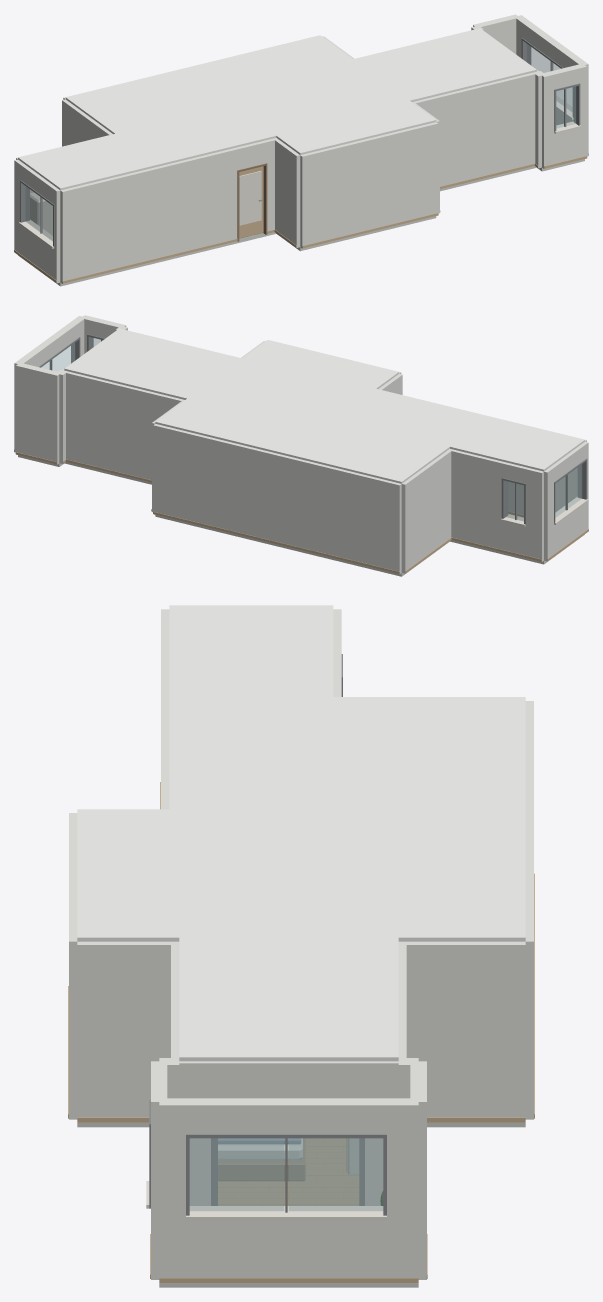
The model's file is two-06.glb.
3 renders of one model, top to bottom at view 1: azimuth 30°, elevation 25°; view 2: azimuth 150°, elevation 25°; view 3: azimuth 270°, elevation 25°, orthographic. The views are drawn at different scales.
Visible parts, largest first — view 1: architecture_wall, ceiling_ceiling, frames_glass, trim_oak, frames_metal, slab_edge, door_ivory, frames_ivory, furniture_ivory, frames_walnut, door_oak; view 2: architecture_wall, ceiling_ceiling, frames_glass, trim_oak, frames_metal, slab_edge, frames_ivory; view 3: ceiling_ceiling, architecture_wall, frames_glass, door_glass, floor_woodfloor, frames_ivory, trim_oak, frames_metal, slab_edge, furniture_walnut, furniture_white.
Part boxes in pixels (bbox=[...]): architecture_wall: bbox=[14, 14, 588, 283]; ceiling_ceiling: bbox=[18, 28, 536, 190]; frames_glass: bbox=[25, 44, 575, 241]; trim_oak: bbox=[14, 153, 588, 283]; frames_metal: bbox=[20, 38, 580, 248]; slab_edge: bbox=[18, 159, 584, 286]; door_ivory: bbox=[239, 171, 261, 225]; frames_ivory: bbox=[18, 96, 581, 248]; furniture_ivory: bbox=[30, 192, 52, 234]; frames_walnut: bbox=[237, 163, 267, 241]; door_oak: bbox=[239, 166, 263, 238]; architecture_wall: bbox=[14, 315, 588, 574]; ceiling_ceiling: bbox=[64, 328, 584, 483]; frames_glass: bbox=[41, 337, 581, 521]; trim_oak: bbox=[14, 449, 588, 573]; frames_metal: bbox=[39, 334, 587, 525]; slab_edge: bbox=[18, 455, 584, 576]; frames_ivory: bbox=[501, 497, 588, 526]; ceiling_ceiling: bbox=[77, 605, 525, 1061]; architecture_wall: bbox=[69, 609, 533, 1283]; frames_glass: bbox=[190, 1138, 382, 1210]; door_glass: bbox=[218, 1138, 358, 1205]; floor_woodfloor: bbox=[218, 1138, 358, 1205]; frames_ivory: bbox=[146, 1181, 386, 1220]; trim_oak: bbox=[68, 782, 534, 1282]; frames_metal: bbox=[149, 654, 386, 1215]; slab_edge: bbox=[77, 1123, 525, 1287]; furniture_walnut: bbox=[218, 1138, 305, 1181]; furniture_white: bbox=[218, 1138, 302, 1160].
Size of the model in its own units: 16.68 by 2.93 by 6.53.
20 materials, 4 textured.
